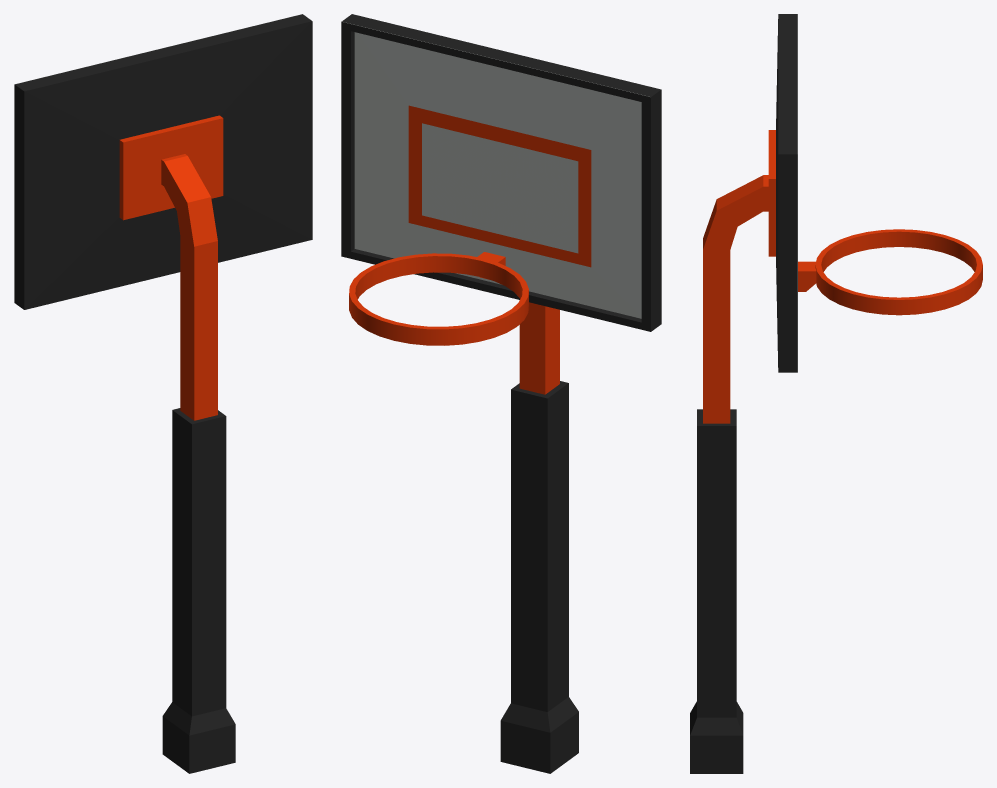
The model's file is Pota.fbx.
3 views of the same model, side by side, from view 1: azimuth 30°, elevation 25°; view 2: azimuth 150°, elevation 25°; view 3: azimuth 270°, elevation 25° (orthographic). The views are drawn at different scales.
Visible parts, largest first — view 1: Cylinder.001; view 2: Cylinder.001; view 3: Cylinder.001.
Boxes of the visible parts, x1,y1,x2,y2 form: Cylinder.001: (14, 14, 312, 773); Cylinder.001: (341, 14, 661, 773); Cylinder.001: (690, 14, 982, 773).
Bounding box in the file's own units: 218 × 492 × 192.
